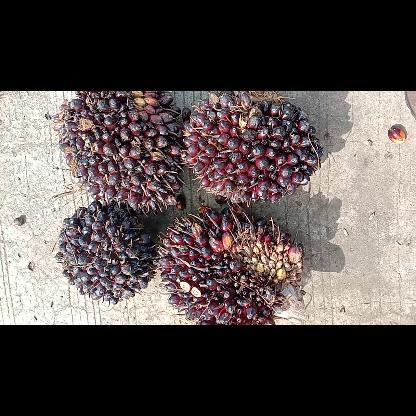TBS mentah: (154, 204, 312, 324), (51, 91, 193, 213), (181, 90, 324, 206), (53, 196, 158, 310)
